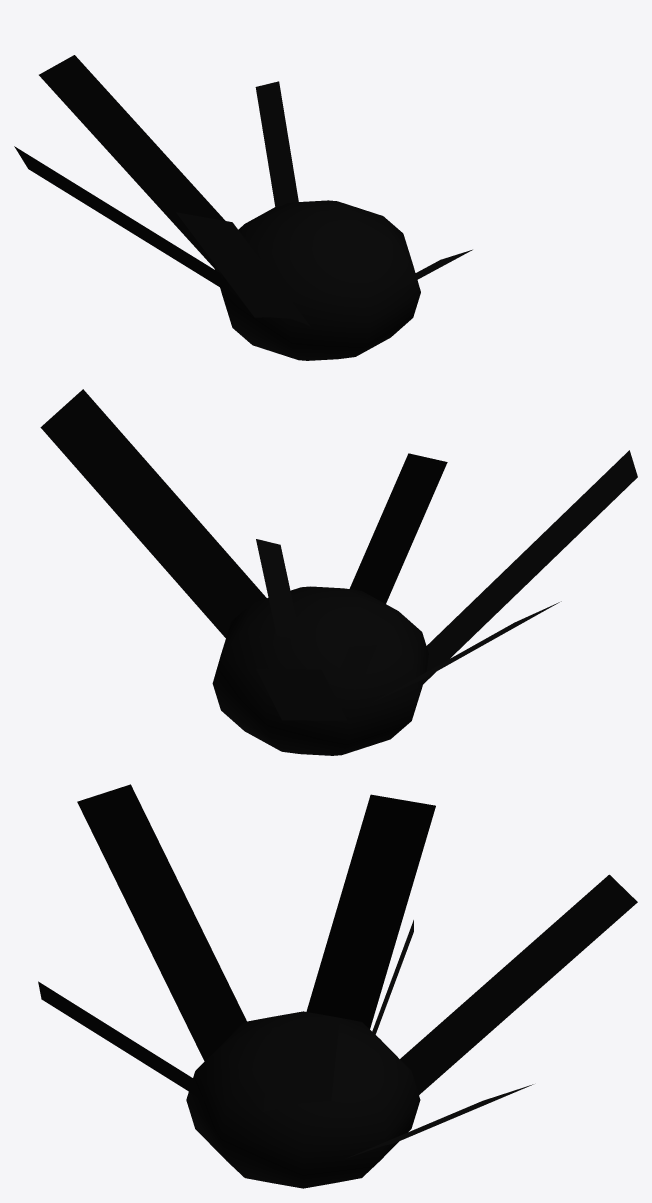
Rendered from environment_evilplant_pustule.fbx.
3 renders of one model, top to bottom at view 1: azimuth 30°, elevation 25°; view 2: azimuth 150°, elevation 25°; view 3: azimuth 270°, elevation 25°, orthographic. The views are drawn at different scales.
Visible parts, largest first — view 1: Pustule_3; view 2: Pustule_3; view 3: Pustule_3.
Part boxes in pixels (left/top/right/bottom): Pustule_3: left=14, top=55, right=472, bottom=360; Pustule_3: left=40, top=389, right=637, bottom=755; Pustule_3: left=38, top=784, right=637, bottom=1188.
Bounding box in the file's own units: 563 × 290 × 533.
